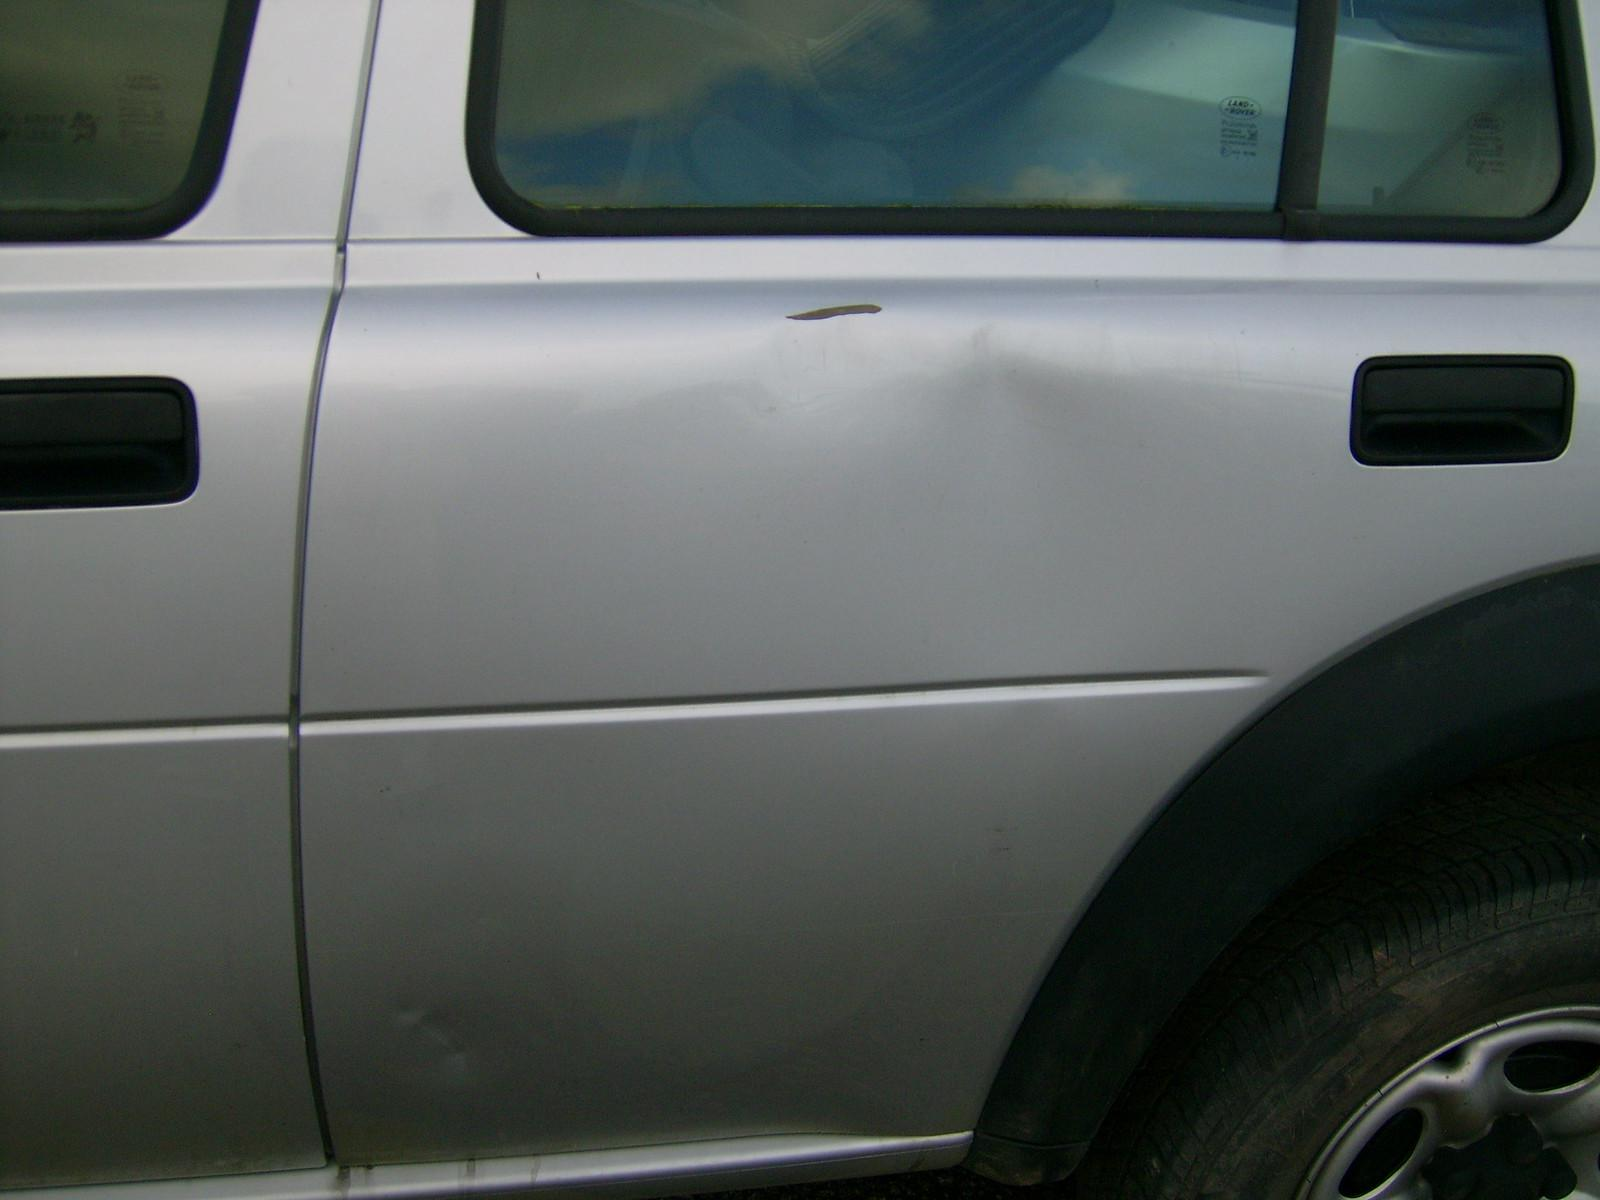doorouter-dent: (365, 257, 1599, 1199)
